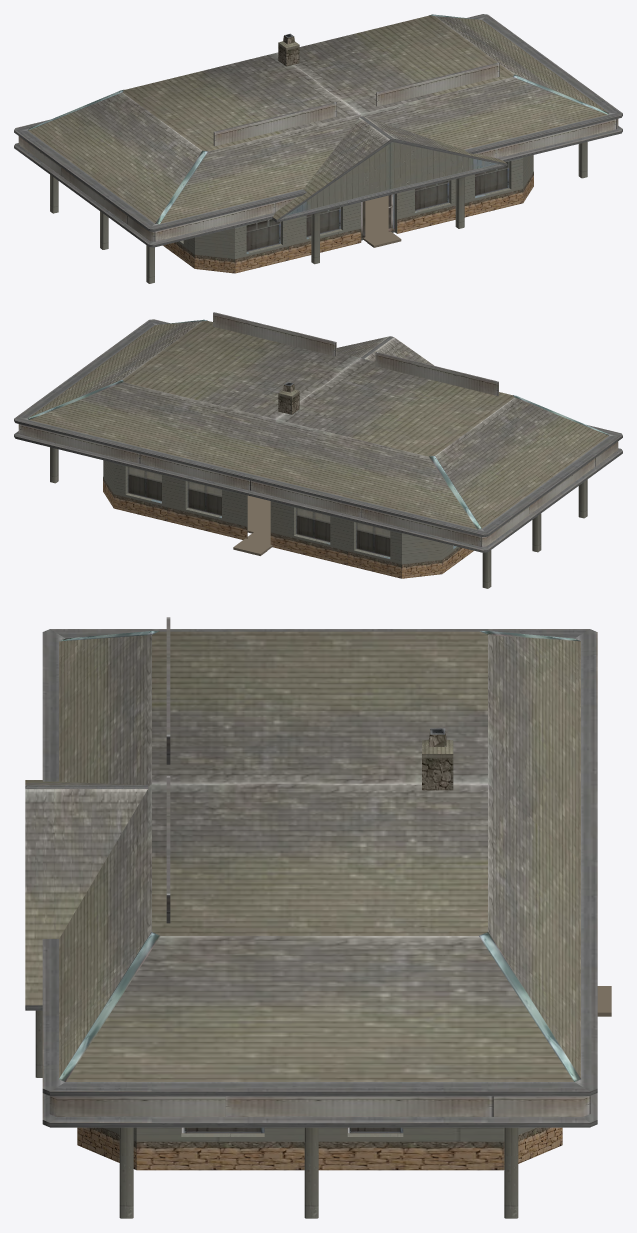
Rendered from rural-wood-4.access-v22.lod0.glb.
3 renders of one model, top to bottom at view 1: azimuth 30°, elevation 25°; view 2: azimuth 150°, elevation 25°; view 3: azimuth 270°, elevation 25°, orthographic. The views are drawn at different scales.
Parts seen in each view (by area): view 1: Rural_WoodenBuilding_4_Rural_Housetrim_1_0, Rural_WoodenBuilding_4_Rural_Facade_FLR_2_0, Rural_WoodenBuilding_4_Rural_Walltrim_1_0, Walkable floors and stairs; view 2: Rural_WoodenBuilding_4_Rural_Housetrim_1_0, Rural_WoodenBuilding_4_Rural_Facade_FLR_2_0, Rural_WoodenBuilding_4_Rural_Walltrim_1_0, Walkable floors and stairs; view 3: Rural_WoodenBuilding_4_Rural_Housetrim_1_0, Rural_WoodenBuilding_4_Rural_Facade_FLR_2_0, Rural_WoodenBuilding_4_Rural_Walltrim_1_0.
Boxes of the visible parts, bbox=[...] form: Rural_WoodenBuilding_4_Rural_Housetrim_1_0: bbox=[14, 14, 622, 273]; Rural_WoodenBuilding_4_Rural_Facade_FLR_2_0: bbox=[18, 14, 618, 251]; Rural_WoodenBuilding_4_Rural_Walltrim_1_0: bbox=[50, 142, 587, 283]; Walkable floors and stairs: bbox=[363, 195, 401, 247]; Rural_WoodenBuilding_4_Rural_Housetrim_1_0: bbox=[14, 319, 622, 578]; Rural_WoodenBuilding_4_Rural_Facade_FLR_2_0: bbox=[18, 312, 618, 556]; Rural_WoodenBuilding_4_Rural_Walltrim_1_0: bbox=[50, 447, 587, 588]; Walkable floors and stairs: bbox=[247, 495, 270, 535]; Rural_WoodenBuilding_4_Rural_Housetrim_1_0: bbox=[25, 629, 597, 1170]; Rural_WoodenBuilding_4_Rural_Facade_FLR_2_0: bbox=[49, 617, 590, 1133]; Rural_WoodenBuilding_4_Rural_Walltrim_1_0: bbox=[35, 1010, 535, 1218].
Bounding box in the file's own units: 27.73 × 7.64 × 14.85.
6 materials, 3 textured.
